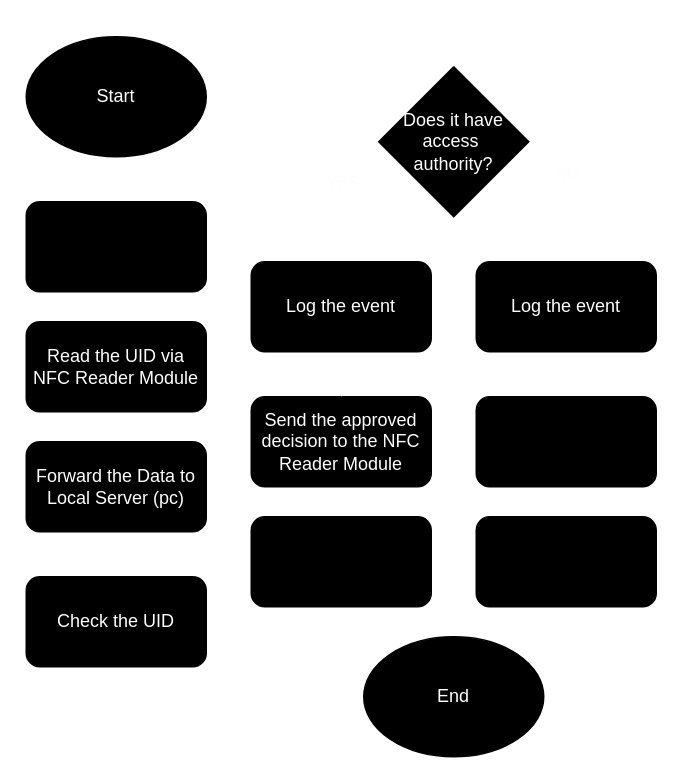
Some shapes in this 683 by 783 pixel diagram are drawn without their labels. The box of each missing label's shape, as (x1, y1, x2, y2) in pixels:
NFC Reader Module denies access: (475, 515, 656, 607)
NFC Reader Module gives access: (250, 515, 431, 607)
Send the denied decision to the NFC Reader Module: (475, 395, 656, 487)
User presents a card or a phone: (25, 200, 206, 292)
